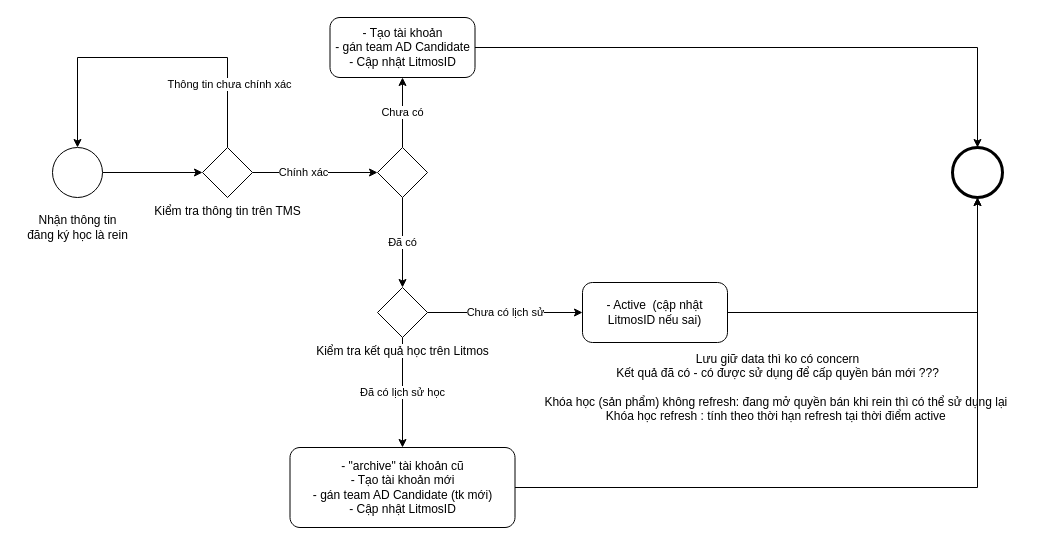
Image size: 1039x545. Some labels were removed from this diagram. The box of each missing label's shape, as (x1, y1, x2, y2) in pixels:
Kiểm tra tài khoản trên Litmos: (376, 146, 428, 198)
Phản hồi email: (952, 146, 1002, 198)
